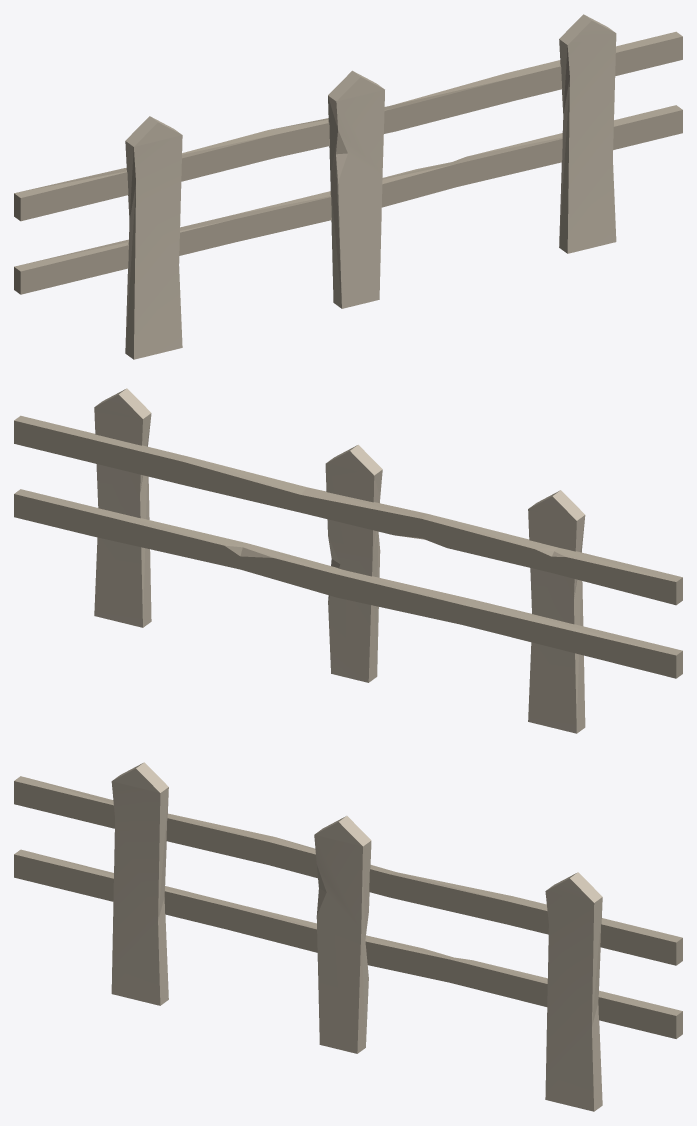
The model's file is Build_Fence02.FBX.
3 renders of one model, top to bottom at view 1: azimuth 30°, elevation 25°; view 2: azimuth 150°, elevation 25°; view 3: azimuth 330°, elevation 25°, orthographic.
Parts seen in each view (by area): view 1: Build_Fence02; view 2: Build_Fence02; view 3: Build_Fence02.
Part boxes in pixels (box(x1,y1,x2,y2)): Build_Fence02: box(14, 14, 682, 359); Build_Fence02: box(14, 388, 682, 733); Build_Fence02: box(14, 762, 682, 1111).
Size of the model in its own units: 300 by 100 by 11.32.
Materials: 1 (1 with a texture image).
